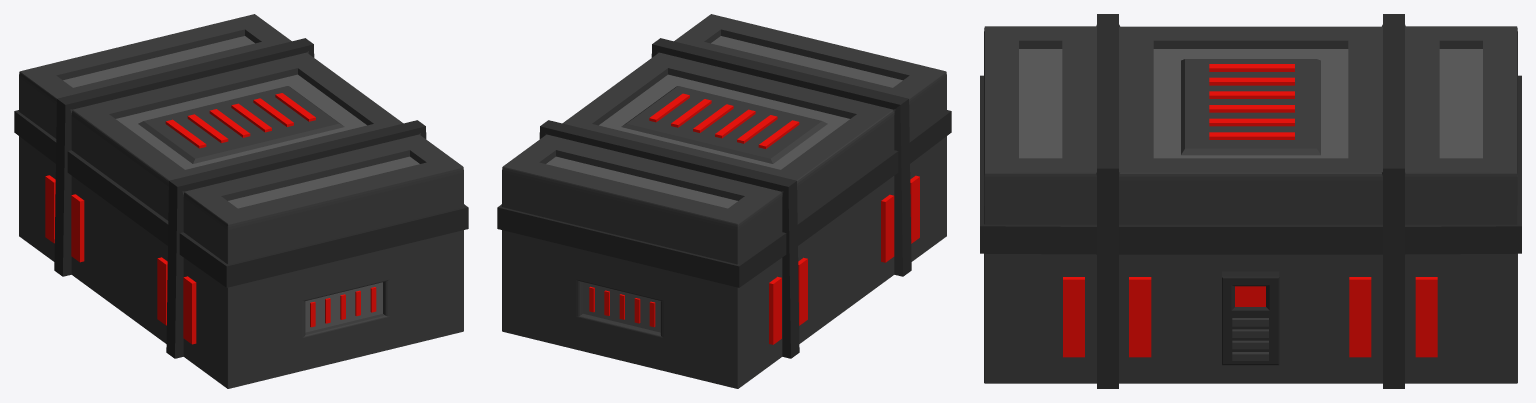
The picture shows the model from 3 angles, left to right: view 1: azimuth 30°, elevation 25°; view 2: azimuth 150°, elevation 25°; view 3: azimuth 270°, elevation 25°; orthographic projection. The views are drawn at different scales.
Visible parts, largest first — view 1: Cube.002; view 2: Cube.002; view 3: Cube.002.
Boxes of the visible parts, <box> form: Cube.002: <box>14,14,468,388</box>; Cube.002: <box>497,14,951,388</box>; Cube.002: <box>980,14,1521,388</box>.
Size of the model in its own units: 164 by 104 by 233.
